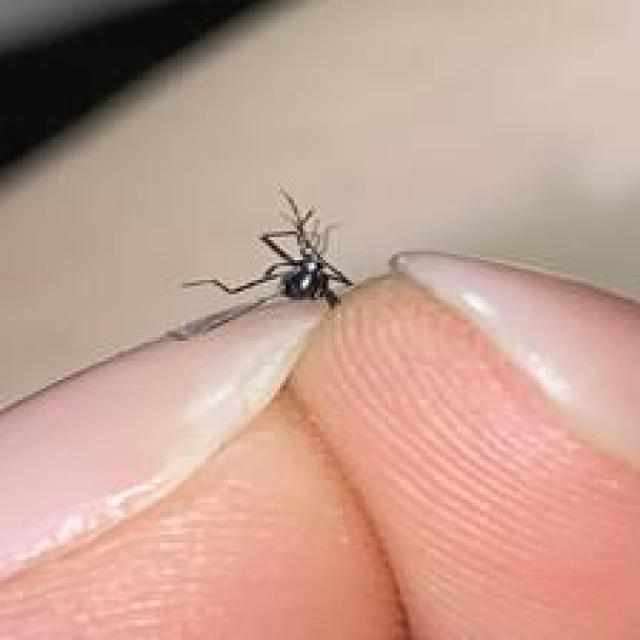Aedes albopictus: (174, 183, 357, 340)
